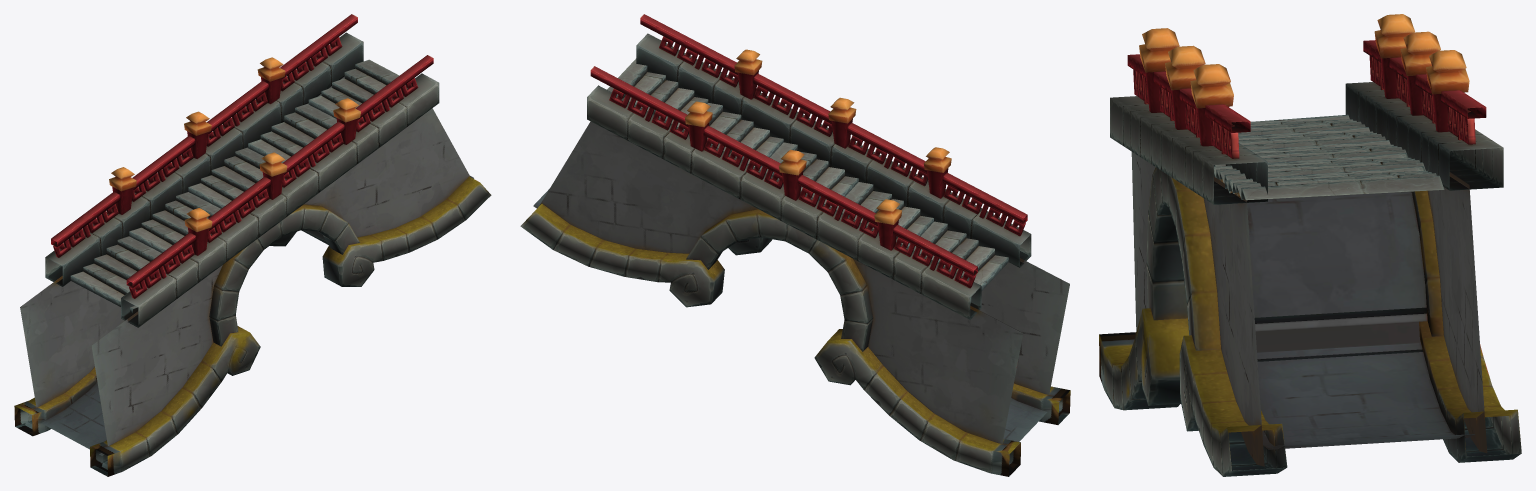
File: SM_Bridge_02.glb
3 renders of one model, left to right at view 1: azimuth 30°, elevation 25°; view 2: azimuth 150°, elevation 25°; view 3: azimuth 270°, elevation 25°, orthographic. The views are drawn at different scales.
Visible parts, largest first — view 1: SM_Bridge_02; view 2: SM_Bridge_02; view 3: SM_Bridge_02.
Part boxes in pixels (box(x1,y1,x2,y2)): SM_Bridge_02: box(14, 14, 491, 476); SM_Bridge_02: box(520, 14, 1070, 476); SM_Bridge_02: box(1099, 14, 1521, 476).
Bounding box in the file's own units: 17.68 × 11.75 × 7.58.
Materials: 2 (2 with a texture image).
